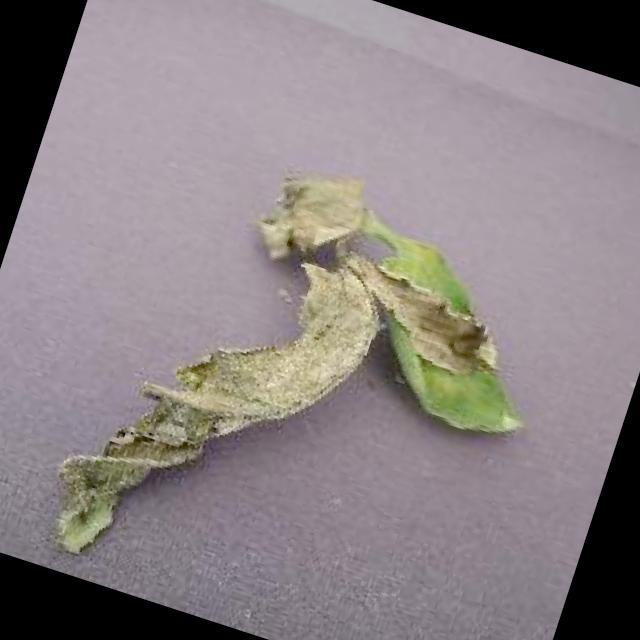Tomato late blight leaf: (30, 124, 575, 640)
